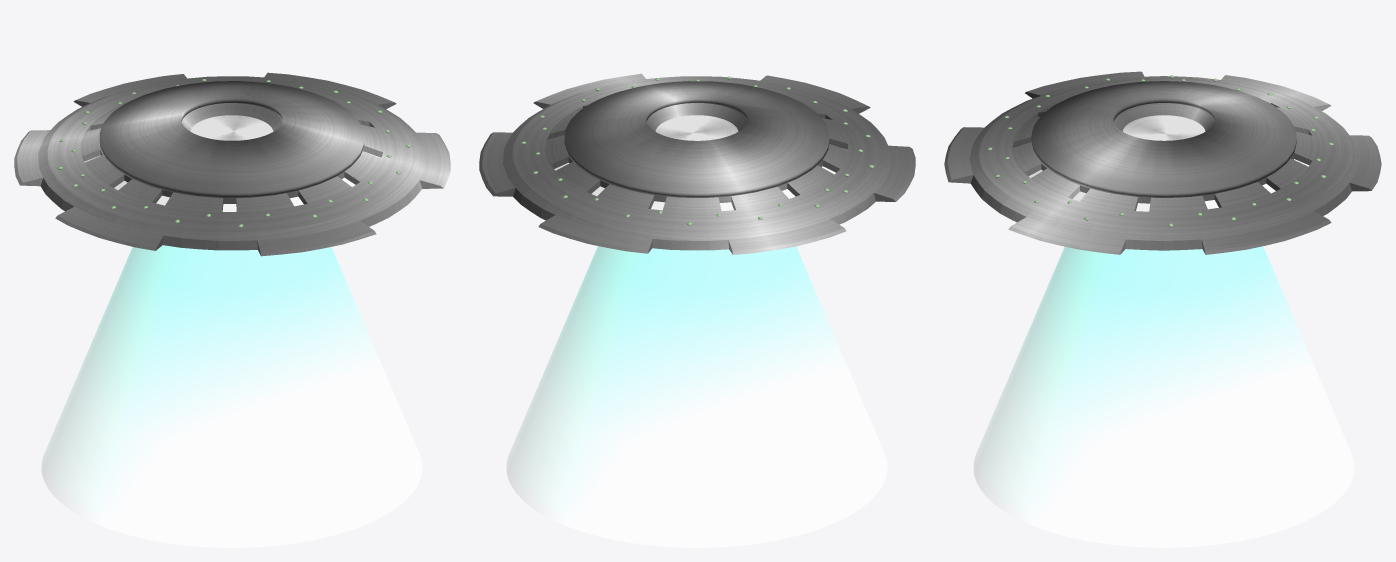
The model's file is UFO2.glb.
The picture shows the model from 3 angles, left to right: view 1: azimuth 30°, elevation 25°; view 2: azimuth 150°, elevation 25°; view 3: azimuth 270°, elevation 25°; orthographic projection.
Parts seen in each view (by area): view 1: Merged Objects, Circle, Circle.005_Circle.015; view 2: Merged Objects, Circle, Circle.005_Circle.015; view 3: Merged Objects, Circle, Circle.005_Circle.015.
Boxes of the visible parts, <box> form: Merged Objects: <box>41,245,422,547</box>; Circle: <box>14,72,450,256</box>; Circle.005_Circle.015: <box>190,115,273,140</box>; Merged Objects: <box>506,246,887,547</box>; Circle: <box>479,73,915,254</box>; Circle.005_Circle.015: <box>655,115,738,140</box>; Merged Objects: <box>973,246,1354,547</box>; Circle: <box>944,71,1381,254</box>; Circle.005_Circle.015: <box>1122,115,1205,140</box>.
Size of the model in its own units: 0.00906 by 0.0105 by 0.00918.
7 materials, 3 textured.
